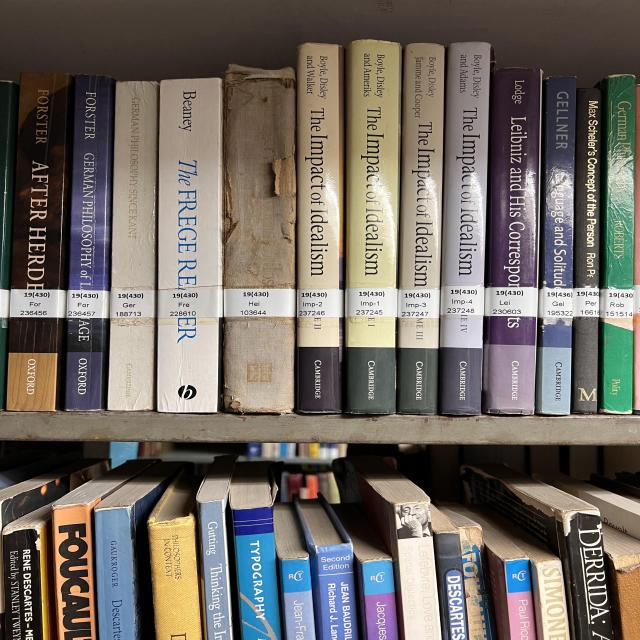Book: (462, 465, 613, 640), (223, 64, 297, 414), (7, 72, 73, 411), (157, 79, 223, 412), (345, 40, 402, 414), (483, 68, 542, 415), (333, 456, 442, 640), (440, 42, 493, 415), (53, 460, 155, 640), (397, 44, 445, 415), (95, 461, 193, 640), (297, 42, 343, 412), (107, 81, 158, 411), (65, 75, 115, 410), (447, 504, 570, 640), (537, 78, 577, 415), (600, 75, 635, 414), (572, 89, 602, 414), (228, 462, 282, 640), (148, 465, 202, 640), (295, 495, 358, 640), (333, 504, 398, 640), (0, 459, 110, 531), (197, 455, 237, 640), (3, 504, 57, 640), (440, 508, 495, 640), (0, 81, 18, 410), (273, 502, 315, 640), (430, 505, 468, 640), (602, 525, 640, 640), (505, 559, 537, 640)
Label: (223, 289, 295, 318), (158, 288, 223, 319), (10, 289, 67, 318), (345, 288, 398, 318), (485, 288, 538, 318), (440, 285, 485, 316), (297, 289, 343, 318), (110, 290, 155, 319), (67, 290, 110, 319), (398, 289, 440, 318), (538, 288, 573, 318), (600, 289, 633, 319), (573, 288, 600, 318)
